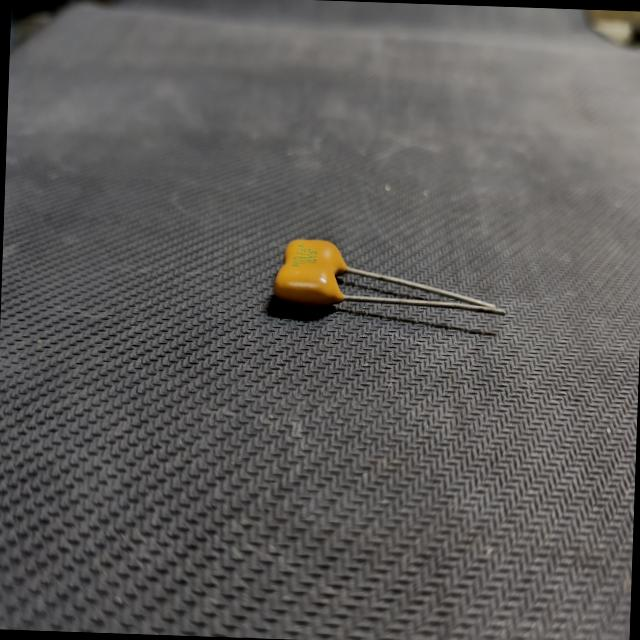resistor: (264, 232, 510, 337)
